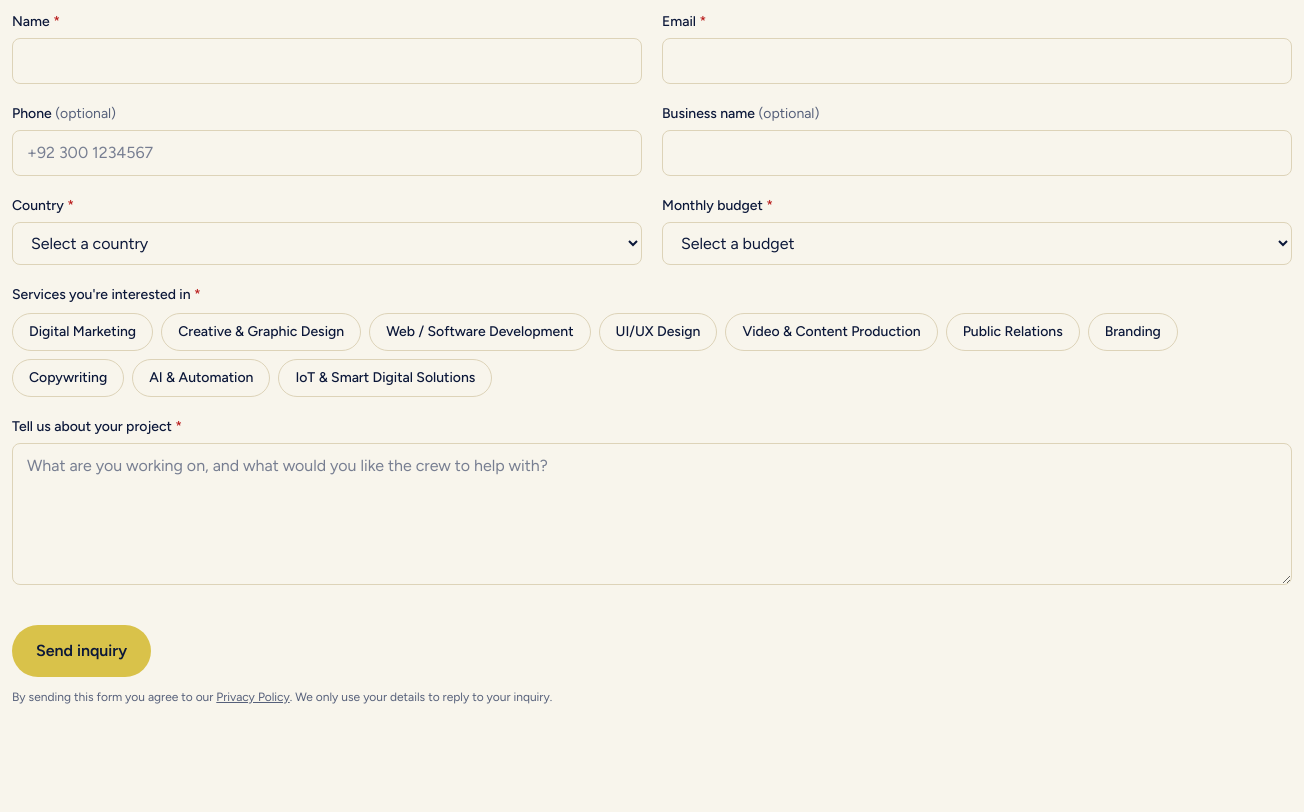
Test: InquiryForm › shows inline errors on submit and focuses the first invalid field
Click the button "Send inquiry" at (82, 651), box [12,625,151,677]
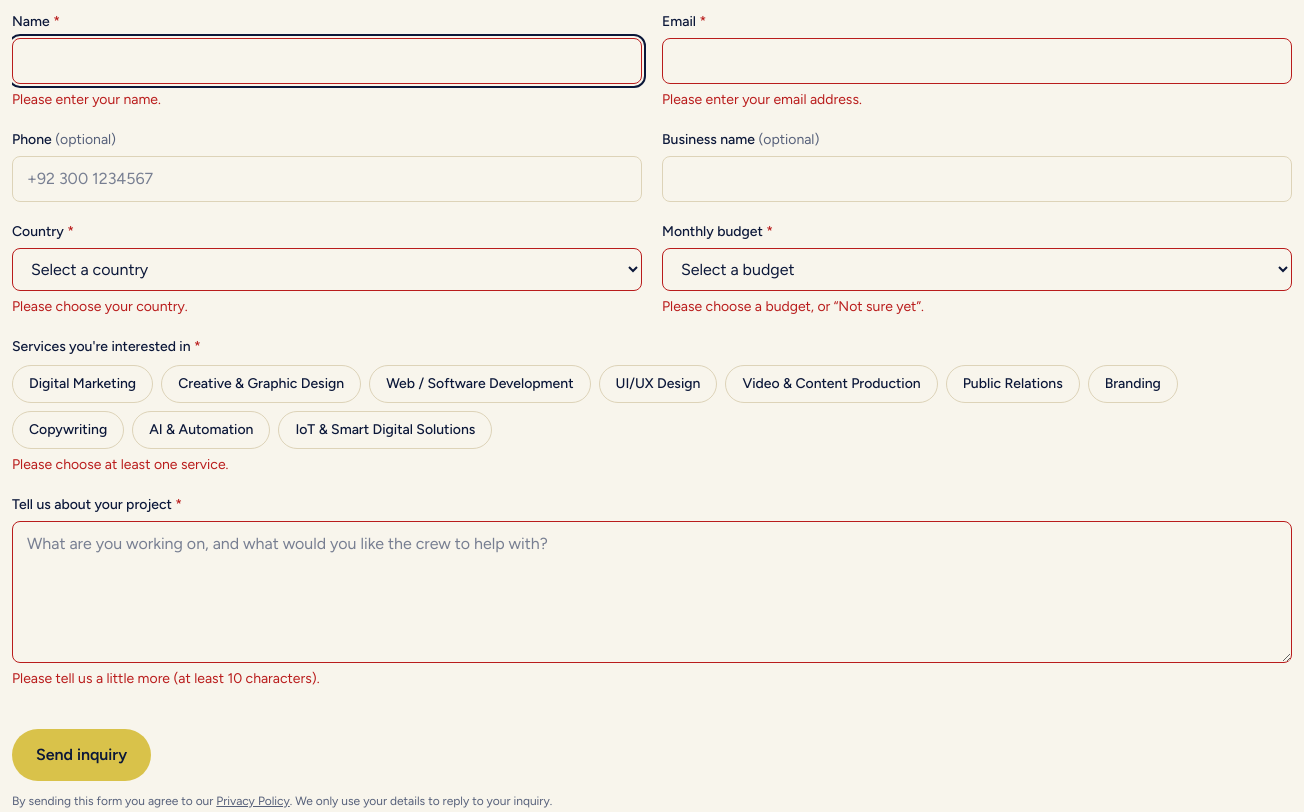
Result: the text "Please enter your name." is shown at [12,91,161,108]
Result: the text "Please choose at least one service." is shown at [12,456,228,473]
